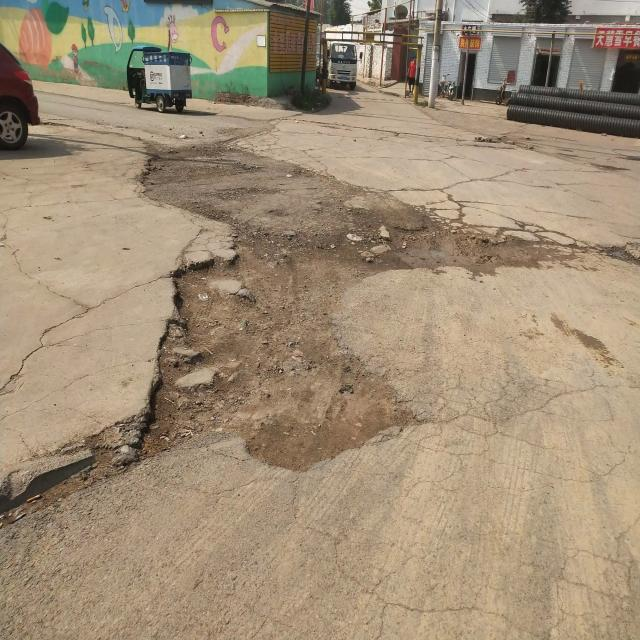Pothole: (134, 144, 540, 302), (137, 253, 424, 475)
